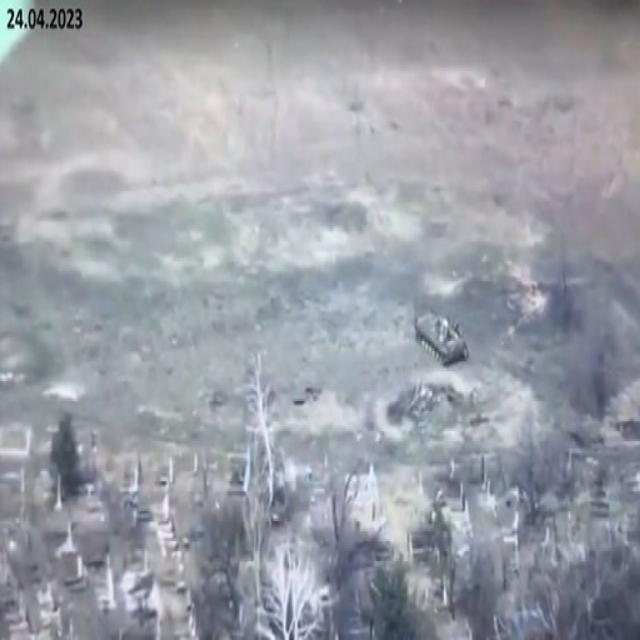APC-IFV: (409, 300, 466, 367)
